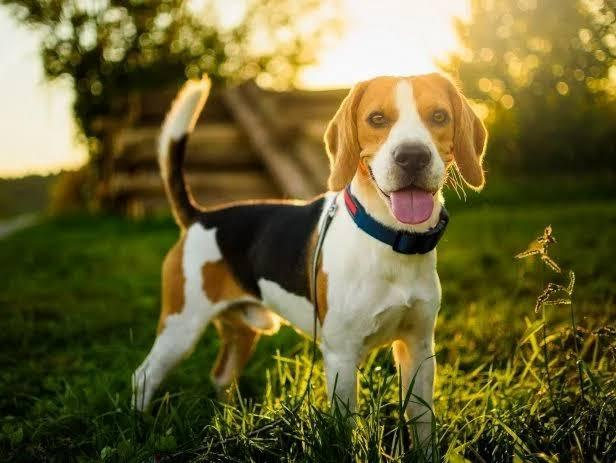adult_dog: (127, 69, 494, 463)
